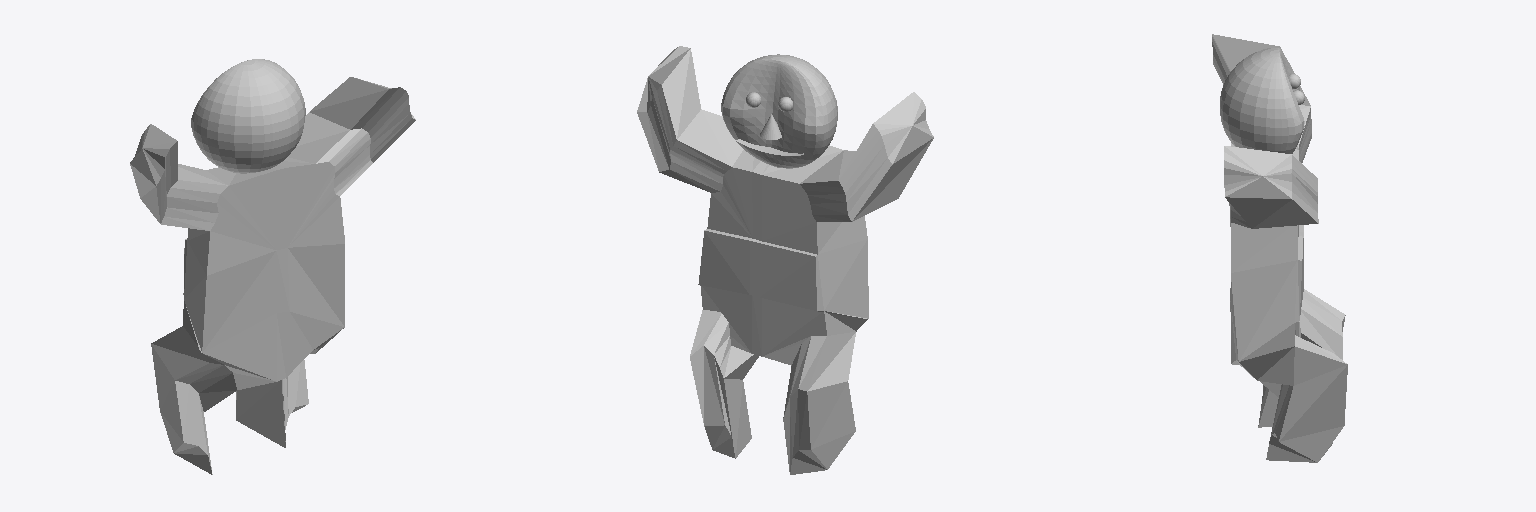
Rendered from manjump_000005.obj.
3 renders of one model, left to right at view 1: azimuth 30°, elevation 25°; view 2: azimuth 150°, elevation 25°; view 3: azimuth 270°, elevation 25°, orthographic.
Parts seen in each view (by area): view 1: Cube; view 2: Cube; view 3: Cube.
Boxes of the visible parts, x1,y1,x2,y2 form: Cube: [130, 59, 415, 474]; Cube: [637, 46, 933, 474]; Cube: [1212, 34, 1347, 462].
Size of the model in its own units: 85.33 by 122 by 37.86.